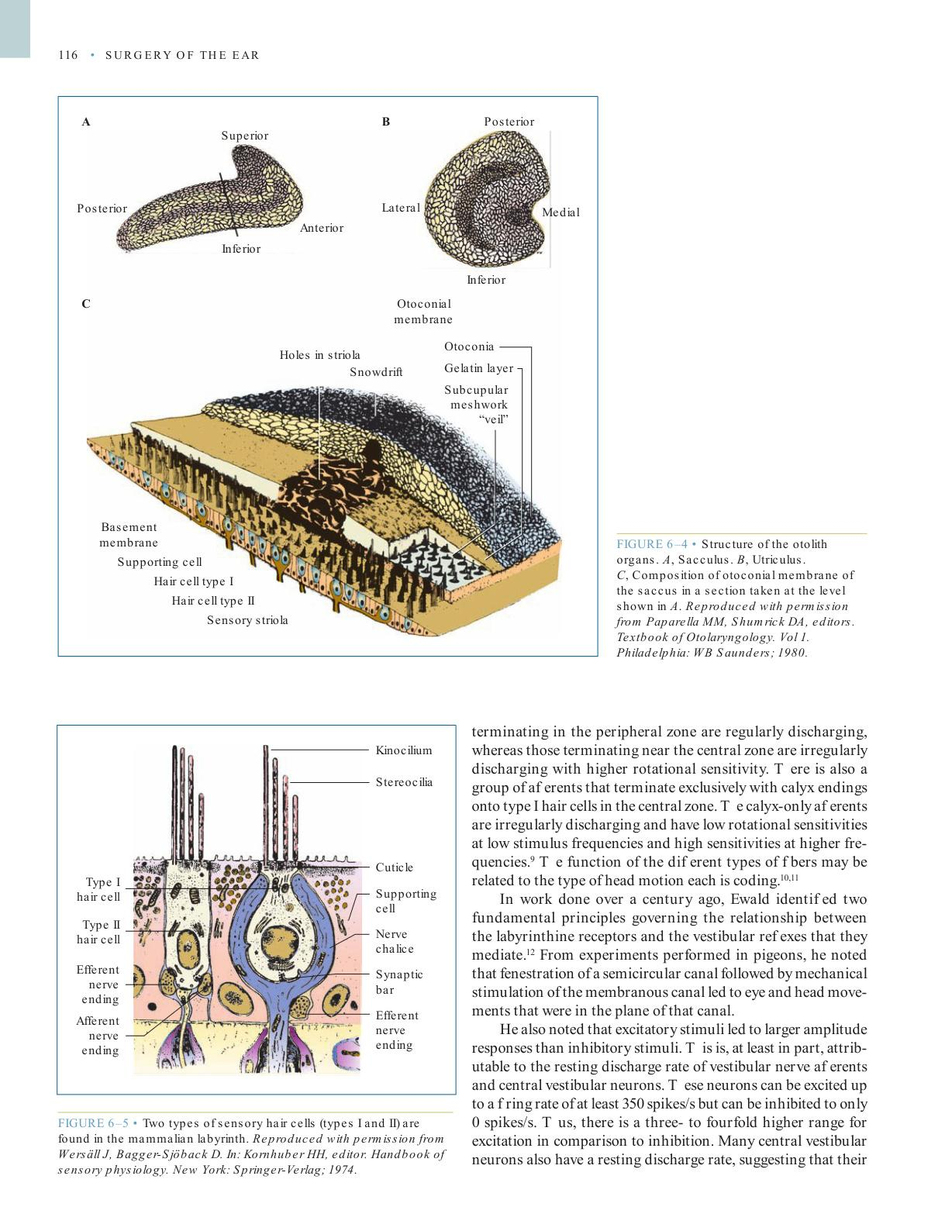caption: (612, 536, 857, 661), (56, 1116, 449, 1179), (81, 297, 92, 309), (81, 116, 91, 126), (381, 115, 390, 126)
header: (105, 50, 259, 60)
image: (78, 293, 568, 644), (64, 730, 448, 1085), (375, 110, 587, 290), (74, 128, 346, 255)
text: (470, 724, 870, 1170)
